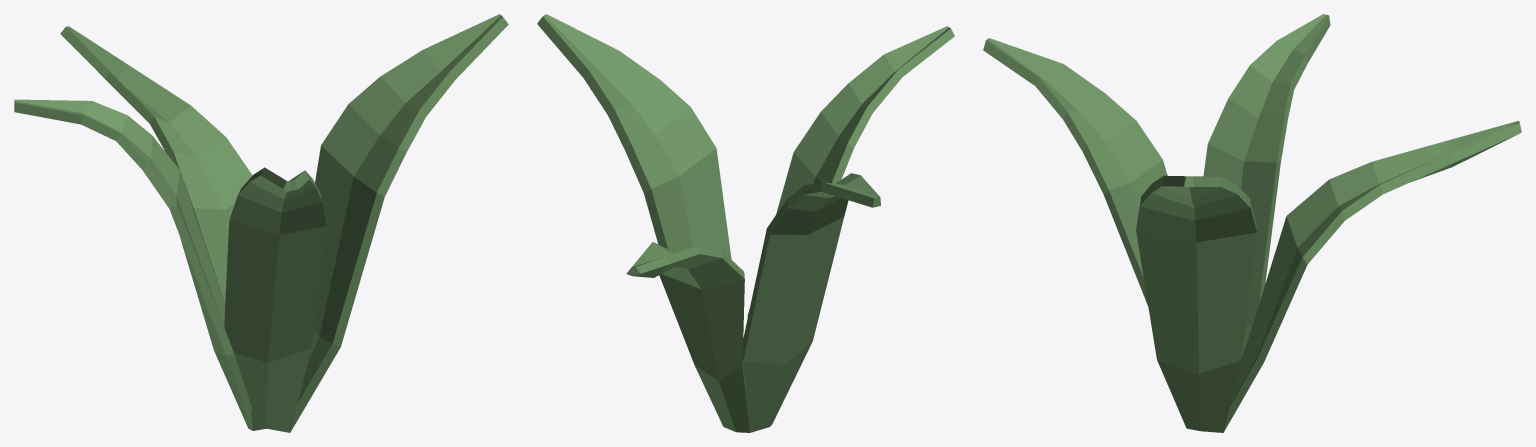
File: 3DObj_Grass_V1.fbx
3 views of the same model, side by side, from view 1: azimuth 30°, elevation 25°; view 2: azimuth 150°, elevation 25°; view 3: azimuth 270°, elevation 25° (orthographic). The views are drawn at different scales.
Visible parts, largest first — view 1: 3DObj_Grass_V1; view 2: 3DObj_Grass_V1; view 3: 3DObj_Grass_V1.
Part boxes in pixels (box(x1,y1,x2,y2)): 3DObj_Grass_V1: box(14, 14, 508, 432); 3DObj_Grass_V1: box(537, 14, 954, 432); 3DObj_Grass_V1: box(983, 14, 1521, 432).
Bounding box in the file's own units: 33.92 × 28 × 38.67.
